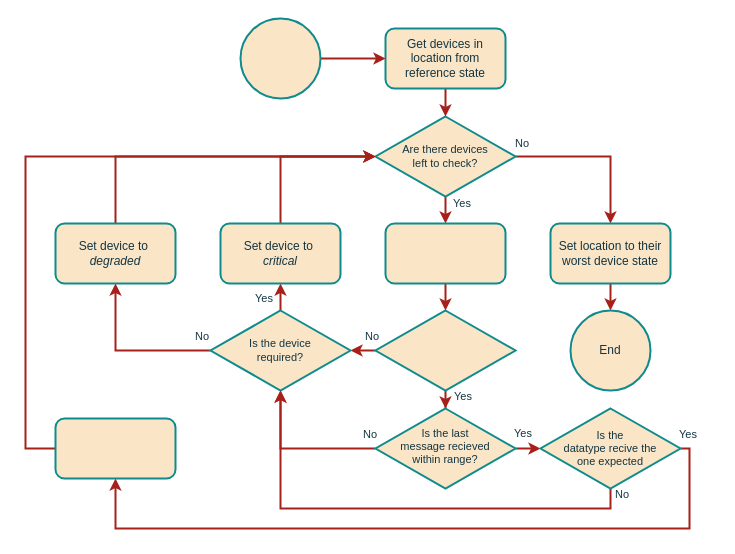
The diagram is 735 pixels wide and 554 high, and some of its shapes have lost their labels. Each missing label, with the centre of its shape:
Check next device: [445,253]
Is the device in the observed state?: [445,350]
Set device to Optimal: [115,448]
Start: [280,58]
